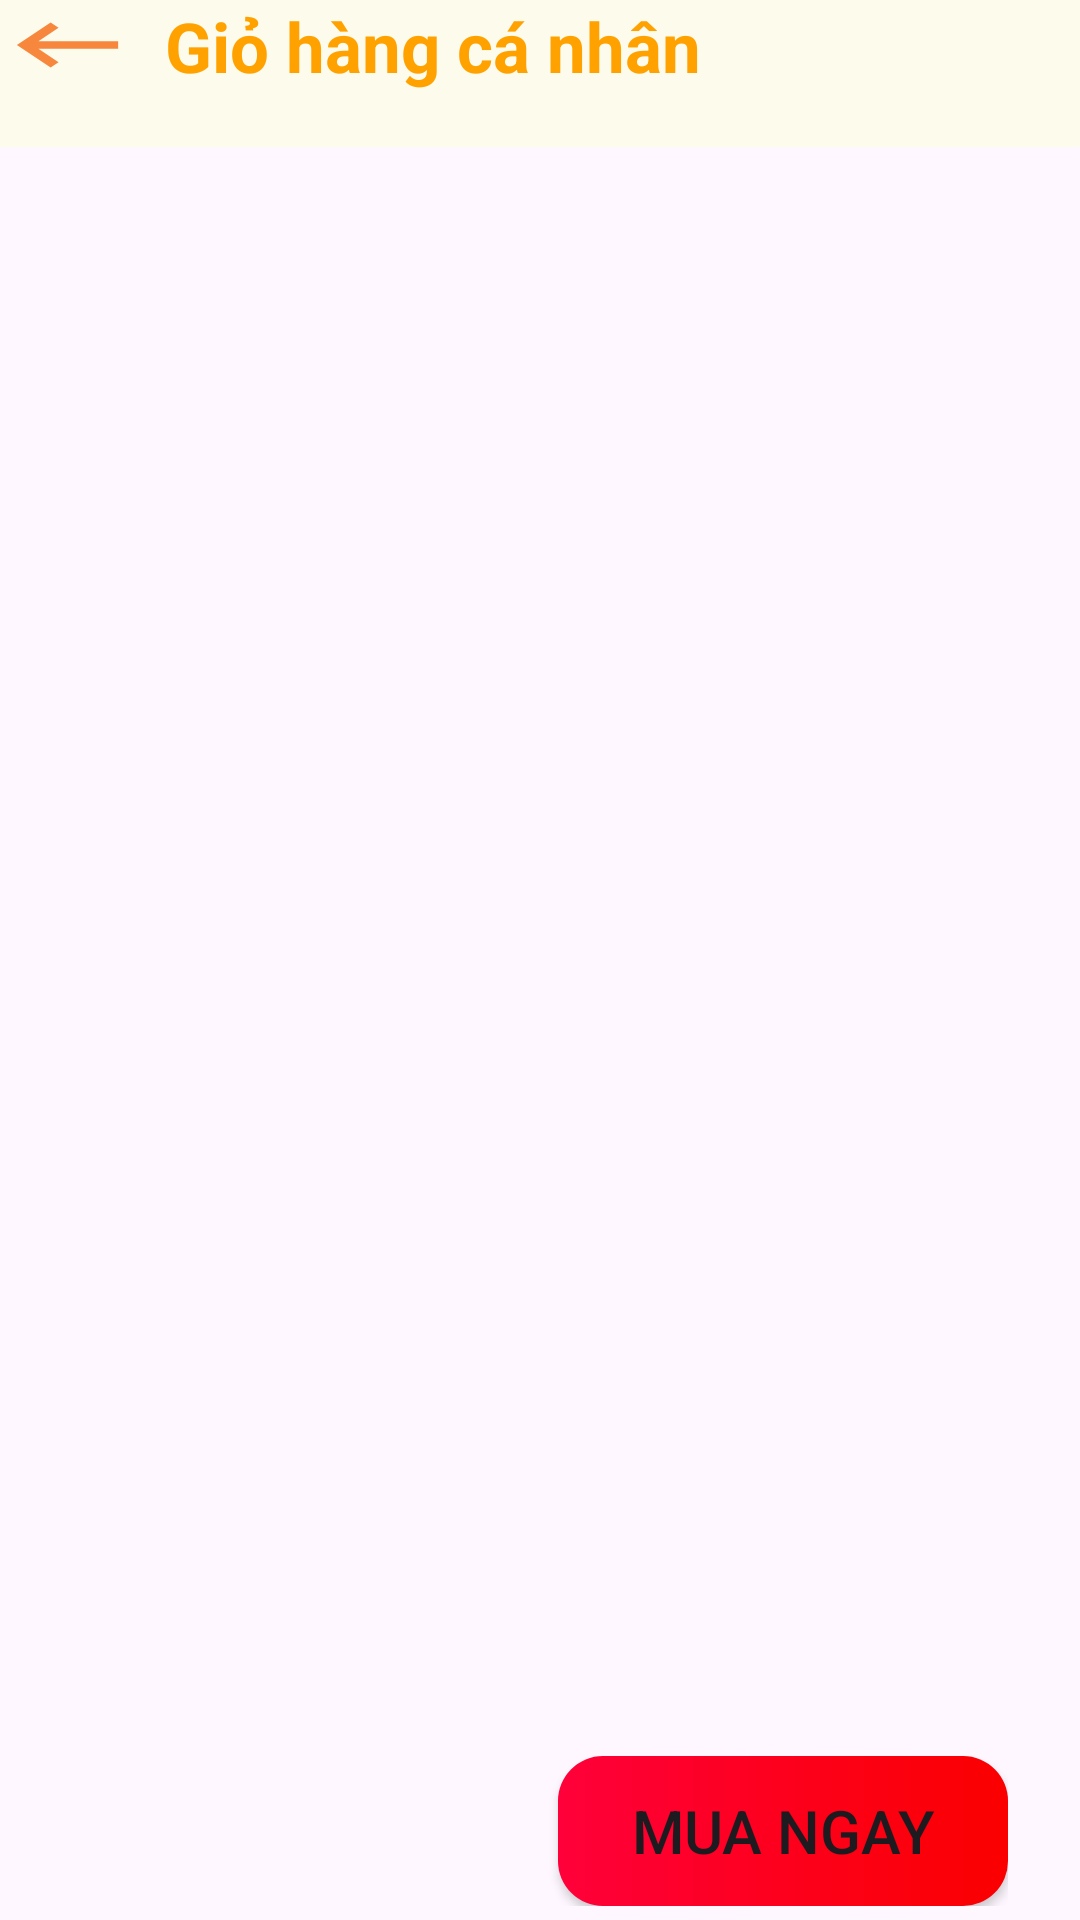

Point at icon controls on the screen. Image size 1080*1920, points as (x=x, y=y).
previou: (x=67, y=45)
